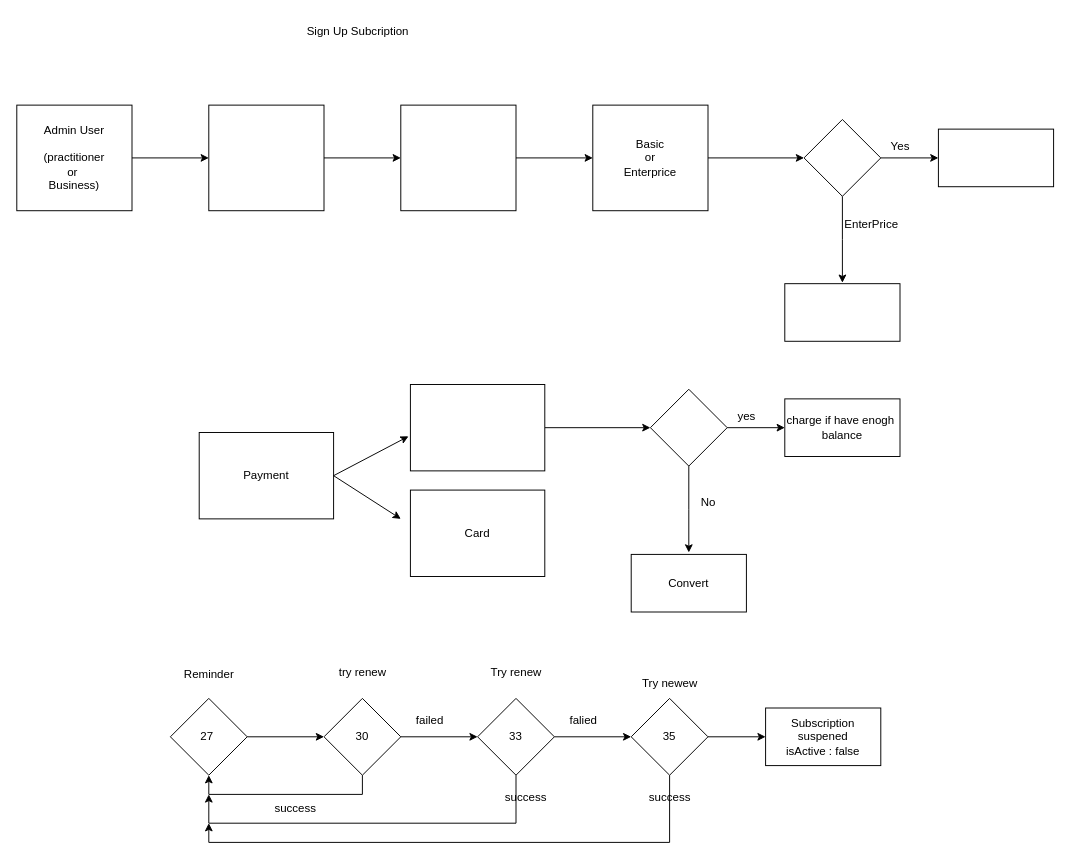
Image size: 1070x867. Some labels were removed from this diagram. Here are the shapes that lost their labels. From the top down, the centre of each, then its label:
At pixel 266 157: "Sign Up".
At pixel 458 157: "Subscription".
At pixel 842 157: "Basic".
At pixel 477 427: "Wallet".
At pixel 688 427: "Both USD".
